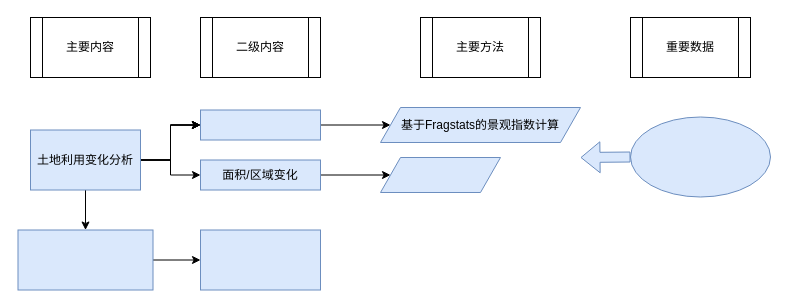
The diagram is 788 pixels wide and 308 high, and some of its shapes have lost their labels. Here are the shapes that lost their labels. From the top down, the box of each, then its label:
(200, 109, 320, 140): 景观变化
(380, 156, 500, 192): 转移矩阵
(630, 116, 770, 197): 2000、2010、2020年CLCD 30m 土地利用数据
(17, 229, 153, 290): 土地利用惯性发展模拟
